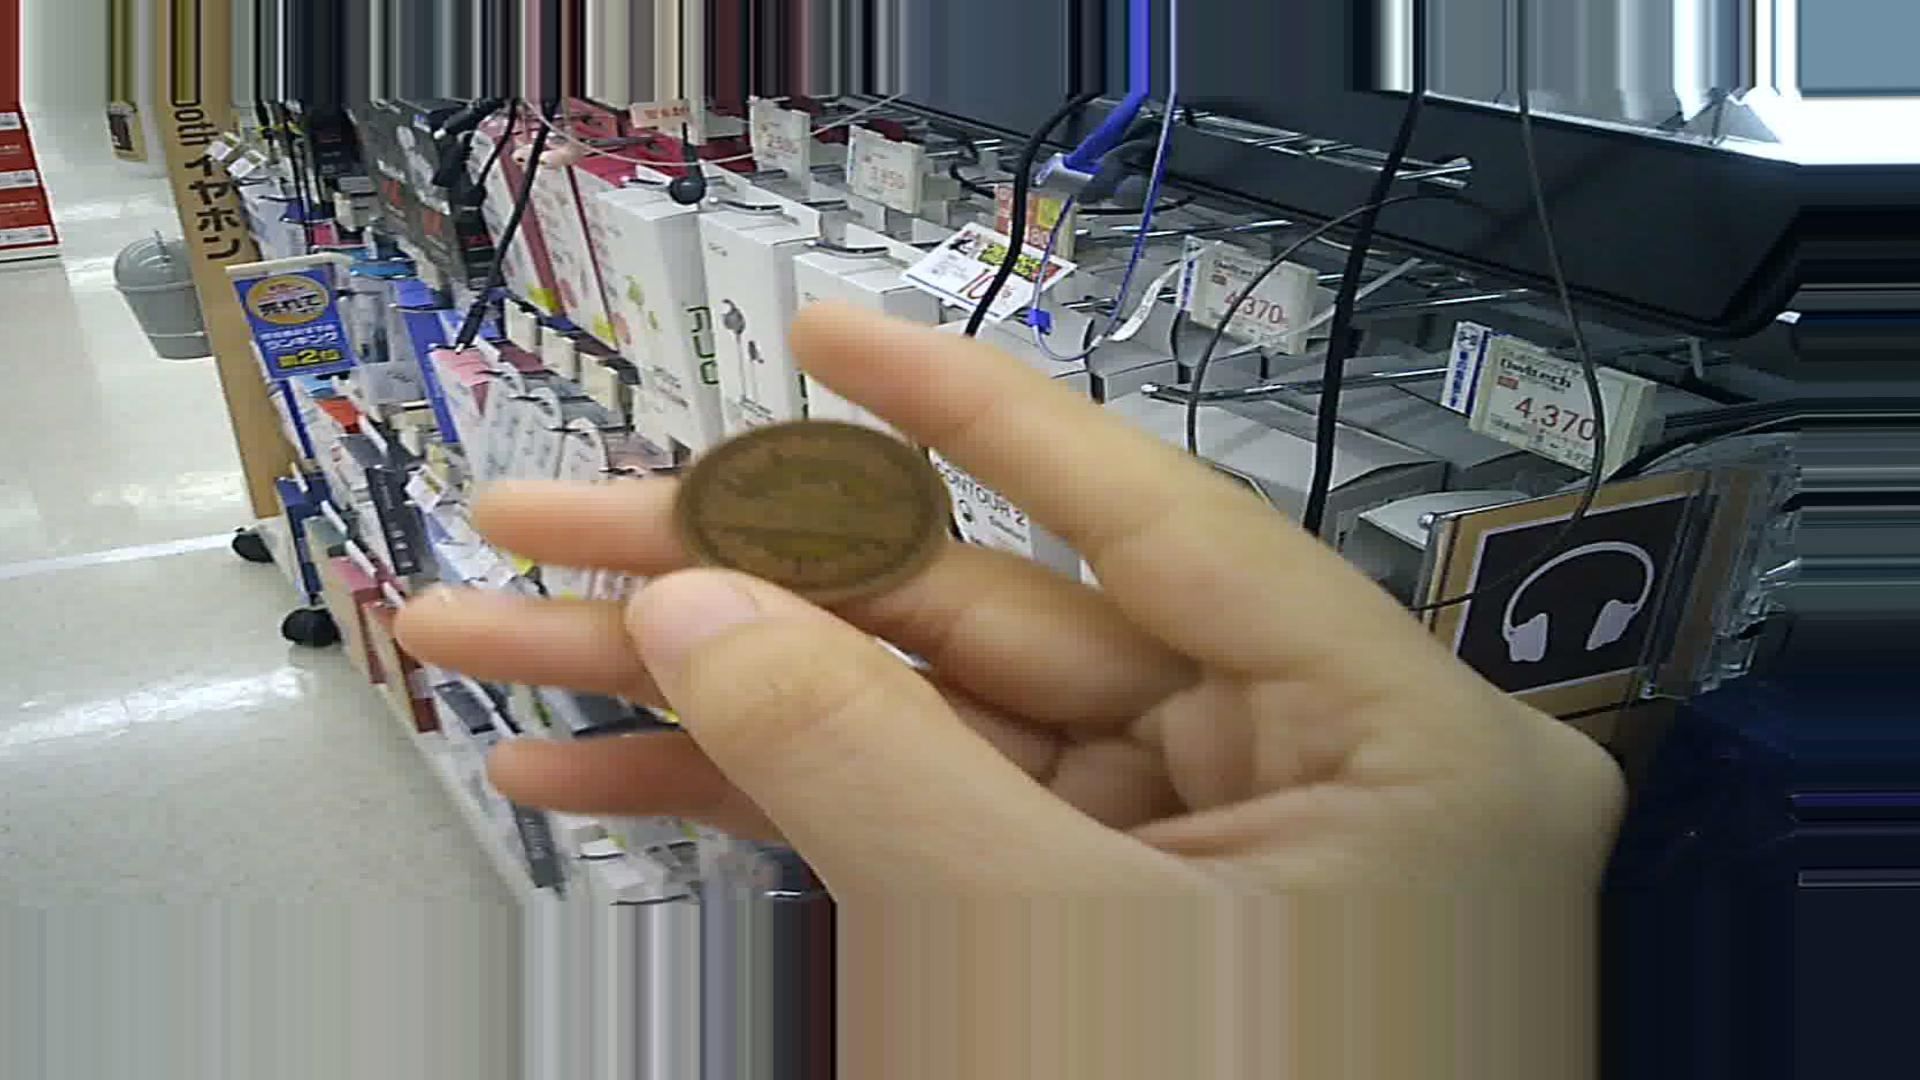10 Yen: (671, 411, 951, 604)
